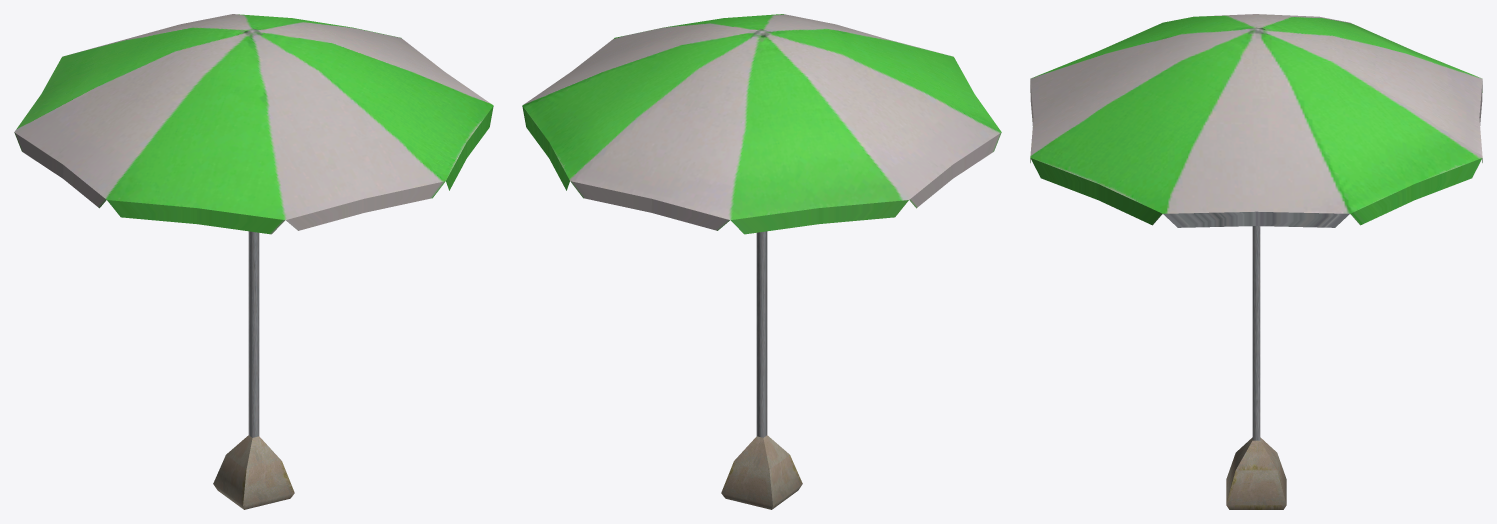
The model's file is UDC_UmbrellaGreen.obj.
The picture shows the model from 3 angles, left to right: view 1: azimuth 30°, elevation 25°; view 2: azimuth 150°, elevation 25°; view 3: azimuth 270°, elevation 25°; orthographic projection.
Visible parts, largest first — view 1: UDC_UmbrellaGreen; view 2: UDC_UmbrellaGreen; view 3: UDC_UmbrellaGreen.
Part boxes in pixels (x1=…): UDC_UmbrellaGreen: x1=14, y1=14, x2=493, y2=509; UDC_UmbrellaGreen: x1=522, y1=14, x2=1001, y2=509; UDC_UmbrellaGreen: x1=1030, y1=14, x2=1482, y2=509.
Size of the model in its own units: 0.9037 by 1.03 by 0.9037.
Materials: 2 (2 with a texture image).
